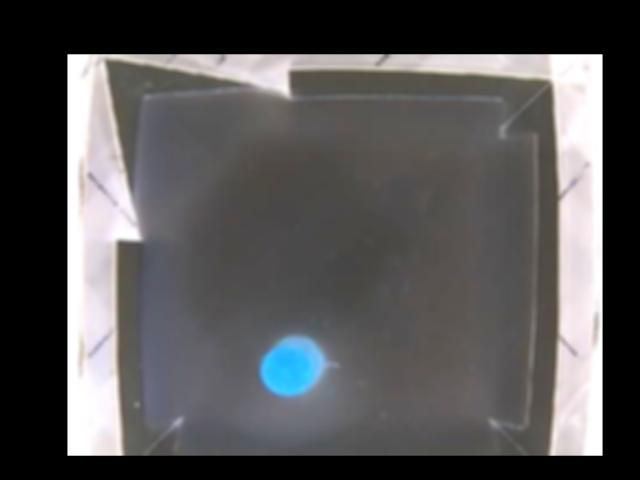Carrot: (262, 335, 323, 397)
